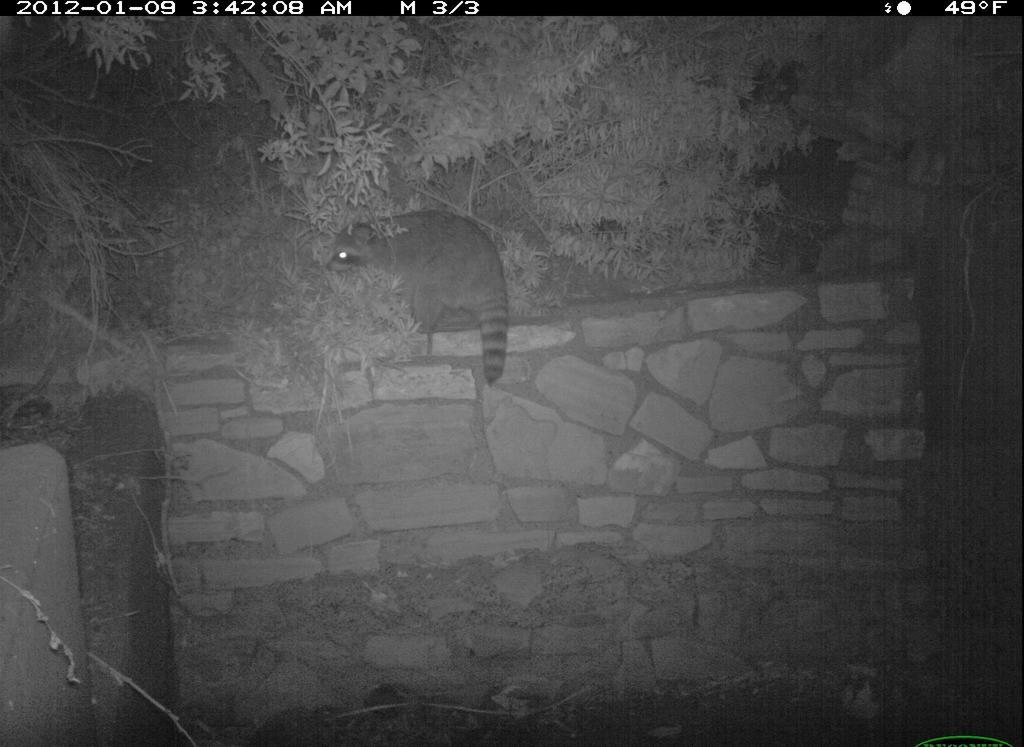raccoon: (319, 208, 519, 390)
